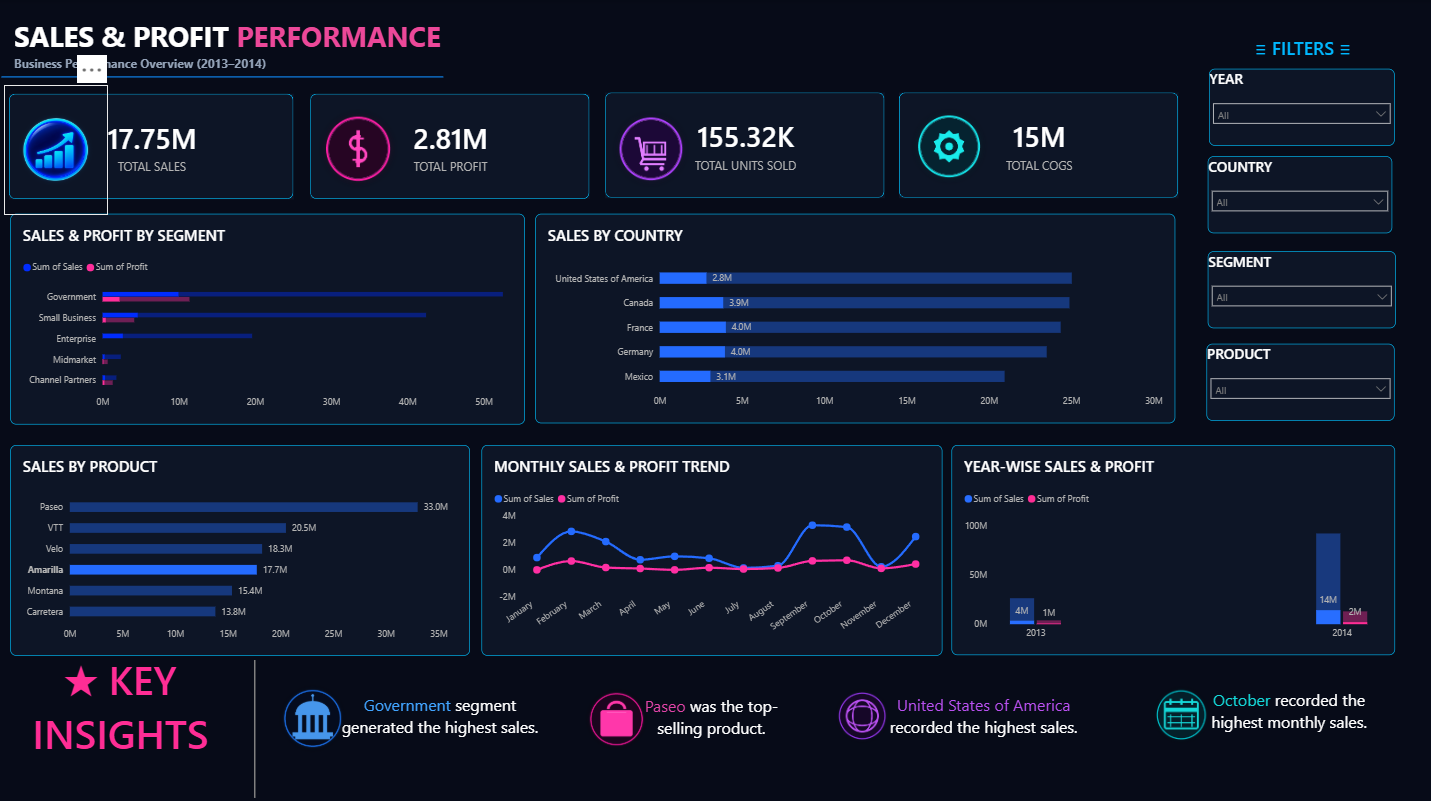

The page's visual inventory and layout, read from the dashboard file:
{"tool":"powerbi","page":{"name":"Sales & Profit Overview","canvas":[1920,1080],"ordinal":0},"visuals":[{"type":"textbox","box":[20.9,22.7,577,162.2],"z":0},{"type":"slicer","title":"YEAR","fields":{"Values":["Week4_Final_Cleaned_Sales_Data.Year"]},"box":[1622.3,92.4,248.8,103.1],"z":0,"group":"g1"},{"type":"shape","box":[3.5,82,592,41.9],"z":1000},{"type":"slicer","title":"COUNTRY","fields":{"Values":["Week4_Final_Cleaned_Sales_Data.Country"]},"box":[1620.9,209.9,247.1,103.1],"z":1000,"group":"g1"},{"type":"cardVisual","fields":{"Data":["Sum(Week4_Final_Cleaned_Sales_Data.Sales)"]},"box":[14,125.6,381.6,141.3],"z":2000},{"type":"slicer","title":"SEGMENT","fields":{"Values":["Week4_Final_Cleaned_Sales_Data.Segment"]},"box":[1619.5,337.5,252,103.1],"z":2000,"group":"g1"},{"type":"cardVisual","fields":{"Data":["Sum(Week4_Final_Cleaned_Sales_Data.Profit)"]},"box":[416.9,125.9,374,141],"z":3000},{"type":"slicer","title":"PRODUCT","fields":{"Values":["Week4_Final_Cleaned_Sales_Data.Product"]},"box":[1618.6,461.2,252,103.1],"z":3000,"group":"g1"},{"type":"cardVisual","fields":{"Data":["Sum(Week4_Final_Cleaned_Sales_Data.Units Sold)"]},"box":[812.1,123.8,374,141.3],"z":4000},{"type":"cardVisual","fields":{"Data":["Sum(Week4_Final_Cleaned_Sales_Data.COGS)"]},"box":[1205.9,123.8,374.3,141.3],"z":5000},{"type":"clusteredBarChart","title":"SALES & PROFIT BY SEGMENT","fields":{"Category":["Week4_Final_Cleaned_Sales_Data.Segment"],"Y":["Sum(Week4_Final_Cleaned_Sales_Data.Sales)","Sum(Week4_Final_Cleaned_Sales_Data.Profit)"]},"box":[15.7,286,689.3,282.6],"z":6000},{"type":"clusteredBarChart","title":"SALES BY COUNTRY","fields":{"Category":["Week4_Final_Cleaned_Sales_Data.Country"],"Y":["Sum(Week4_Final_Cleaned_Sales_Data.Sales)"]},"box":[718.6,286,857.8,280.8],"z":7000},{"type":"clusteredBarChart","title":"SALES BY PRODUCT","fields":{"Category":["Week4_Final_Cleaned_Sales_Data.Product"],"Y":["Sum(Week4_Final_Cleaned_Sales_Data.Sales)"]},"box":[15.7,596.5,616,282.6],"z":8000},{"type":"lineChart","title":"MONTHLY SALES & PROFIT TREND","fields":{"Category":["Week4_Final_Cleaned_Sales_Data.Month Name"],"Y":["Sum(Week4_Final_Cleaned_Sales_Data.Sales)","Sum(Week4_Final_Cleaned_Sales_Data.Profit)"]},"box":[647.1,596.5,617.4,282.6],"z":9000},{"type":"group","id":"g1","title":"Group 1","box":[1618.6,92.4,252.9,472],"z":10000},{"type":"textbox","box":[1657,48.8,181.4,43.3],"z":11000},{"type":"clusteredColumnChart","title":"YEAR-WISE SALES & PROFIT","fields":{"Category":["Week4_Final_Cleaned_Sales_Data.Year"],"Y":["Sum(Week4_Final_Cleaned_Sales_Data.Sales)","Sum(Week4_Final_Cleaned_Sales_Data.Profit)"]},"box":[1276.7,596.5,594.8,281.9],"z":12000},{"type":"textbox","box":[10.5,873.8,305.2,200.6],"z":13000},{"type":"image","box":[6.3,113.4,139.2,174.4],"z":13001},{"type":"image","box":[427.3,116.9,108.1,164],"z":13002},{"type":"image","box":[820.8,112.3,105.7,174.4],"z":13003},{"type":"image","box":[1220.9,108.5,104.3,174.4],"z":13004},{"type":"shape","box":[205,885,276.7,185],"z":13005},{"type":"textbox","box":[446.2,930,290.6,150],"z":13006},{"type":"image","box":[363.8,916,113.7,93.1],"z":13007},{"type":"textbox","box":[850.5,931.7,207.6,64.2],"z":13008},{"type":"image","box":[782.4,920.9,90.7,85.1],"z":13009},{"type":"textbox","box":[1186,930.4,266.9,81.6],"z":13010},{"type":"image","box":[1115.2,921.3,82.3,76],"z":13011},{"type":"textbox","box":[1618.3,923.7,221.2,83],"z":13012},{"type":"image","box":[1541.5,918.1,86.5,80.2],"z":13013}]}

Visuals, with their boxes on the page's 1920x1080 design canvas (x1, y1, x2, y2). These are canvas units, not pixel positions in the 1431x801 screenshot, which may show the page scaled, cropped or inside an application window:
textbox: <bbox>21, 23, 598, 185</bbox>
"YEAR" slicer: <bbox>1622, 92, 1871, 196</bbox>
shape: <bbox>4, 82, 596, 124</bbox>
"COUNTRY" slicer: <bbox>1621, 210, 1868, 313</bbox>
cardVisual - Sum(Week4_Final_Cleaned_Sales_Data.Sales): <bbox>14, 126, 396, 267</bbox>
"SEGMENT" slicer: <bbox>1620, 338, 1872, 441</bbox>
cardVisual - Sum(Week4_Final_Cleaned_Sales_Data.Profit): <bbox>417, 126, 791, 267</bbox>
"PRODUCT" slicer: <bbox>1619, 461, 1871, 564</bbox>
cardVisual - Sum(Week4_Final_Cleaned_Sales_Data.Units Sold): <bbox>812, 124, 1186, 265</bbox>
cardVisual - Sum(Week4_Final_Cleaned_Sales_Data.COGS): <bbox>1206, 124, 1580, 265</bbox>
"SALES & PROFIT BY SEGMENT" clusteredBarChart: <bbox>16, 286, 705, 569</bbox>
"SALES BY COUNTRY" clusteredBarChart: <bbox>719, 286, 1576, 567</bbox>
"SALES BY PRODUCT" clusteredBarChart: <bbox>16, 596, 632, 879</bbox>
"MONTHLY SALES & PROFIT TREND" lineChart: <bbox>647, 596, 1264, 879</bbox>
"Group 1" group: <bbox>1619, 92, 1872, 564</bbox>
textbox: <bbox>1657, 49, 1838, 92</bbox>
"YEAR-WISE SALES & PROFIT" clusteredColumnChart: <bbox>1277, 596, 1872, 878</bbox>
textbox: <bbox>10, 874, 316, 1074</bbox>
image: <bbox>6, 113, 146, 288</bbox>
image: <bbox>427, 117, 535, 281</bbox>
image: <bbox>821, 112, 926, 287</bbox>
image: <bbox>1221, 108, 1325, 283</bbox>
shape: <bbox>205, 885, 482, 1070</bbox>
textbox: <bbox>446, 930, 737, 1080</bbox>
image: <bbox>364, 916, 478, 1009</bbox>
textbox: <bbox>850, 932, 1058, 996</bbox>
image: <bbox>782, 921, 873, 1006</bbox>
textbox: <bbox>1186, 930, 1453, 1012</bbox>
image: <bbox>1115, 921, 1198, 997</bbox>
textbox: <bbox>1618, 924, 1840, 1007</bbox>
image: <bbox>1542, 918, 1628, 998</bbox>
